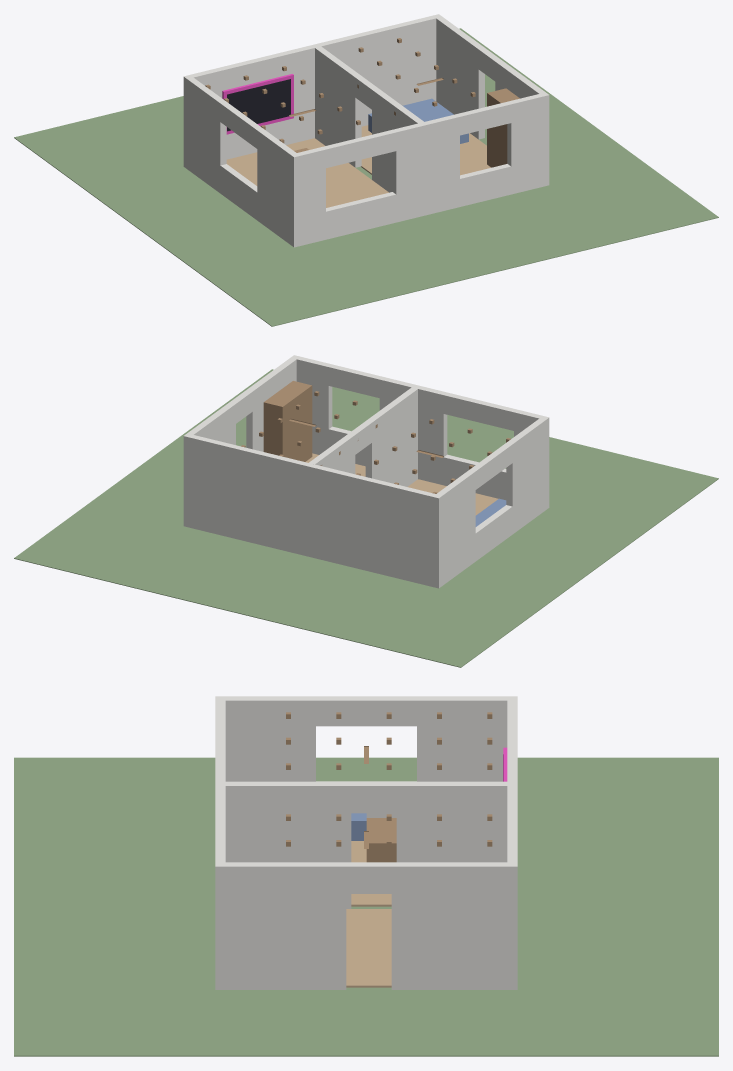
Rendered from home-draco.glb.
3 renders of one model, top to bottom at view 1: azimuth 30°, elevation 25°; view 2: azimuth 150°, elevation 25°; view 3: azimuth 270°, elevation 25°, orthographic. The views are drawn at different scales.
Parts seen in each view (by area): view 1: ground, wall_north, wall_south_1a, wall_south_end, wall_east_0a, wall_inner_0a, wall_west_0a, wall_south_0a, wall_west_end, floor_living, wall_south_0b, wall_inner_end (+11 smaller); view 2: ground, wall_north, wall_inner_end, wall_west_end, wardrobe, wall_west_0a, wall_south_1a, wall_south_end, wall_east_end, wall_south_0c, wall_west_0b, wall_south_0b (+6 smaller); view 3: ground, wall_east_end, wall_east_0a, wall_inner_end, wall_inner_0a, wall_west_end, wall_west_0a, floor_bed, wall_north, wall_west_0c, wall_south_end, wall_inner_0c (+3 smaller).
Part boxes in pixels (box(x1,y1,x2,y2)): ground: box(14, 28, 718, 326); wall_north: box(183, 14, 442, 168); wall_south_1a: box(392, 114, 459, 222); wall_south_end: box(507, 92, 549, 194); wall_east_0a: box(436, 17, 484, 139); wall_inner_0a: box(315, 46, 361, 167); wall_west_0a: box(187, 77, 226, 192); wall_south_0a: box(290, 147, 325, 247); wall_west_end: box(257, 129, 296, 244); floor_living: box(226, 138, 388, 207); wall_south_0b: box(326, 192, 396, 239); wall_inner_end: box(372, 88, 423, 192); ground: box(14, 369, 718, 667); wall_north: box(183, 433, 442, 588); wall_inner_end: box(365, 387, 417, 486); wall_west_end: box(506, 418, 545, 533); wardrobe: box(263, 381, 312, 461); wall_west_0a: box(436, 470, 475, 585); wall_south_1a: box(379, 377, 447, 485); wall_south_end: box(290, 355, 332, 454); wall_east_end: box(246, 358, 296, 451); wall_south_0c: box(443, 392, 516, 430); wall_west_0b: box(475, 505, 512, 561); wall_south_0b: box(443, 454, 506, 500); ground: box(14, 757, 718, 1056); wall_east_end: box(225, 862, 346, 989); wall_east_0a: box(391, 862, 507, 989); wall_inner_end: box(225, 781, 351, 908); wall_inner_0a: box(396, 781, 507, 862); wall_west_end: box(225, 696, 315, 781); wall_west_0a: box(417, 696, 507, 781); floor_bed: box(346, 909, 391, 987); wall_north: box(507, 696, 517, 989); wall_west_0c: box(316, 696, 416, 726); wall_south_end: box(215, 841, 225, 989); wall_inner_0c: box(351, 781, 396, 813).
Bounding box in the file's own units: 1400 × 276 × 1400.
